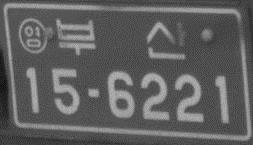-: (85, 86, 101, 99)
1: (211, 74, 234, 124), (23, 66, 43, 114)
2: (173, 73, 205, 123), (140, 71, 171, 121)
5: (50, 67, 81, 116)
6: (106, 70, 135, 119)
부산_D: (53, 16, 189, 62)
영: (18, 17, 49, 54)
